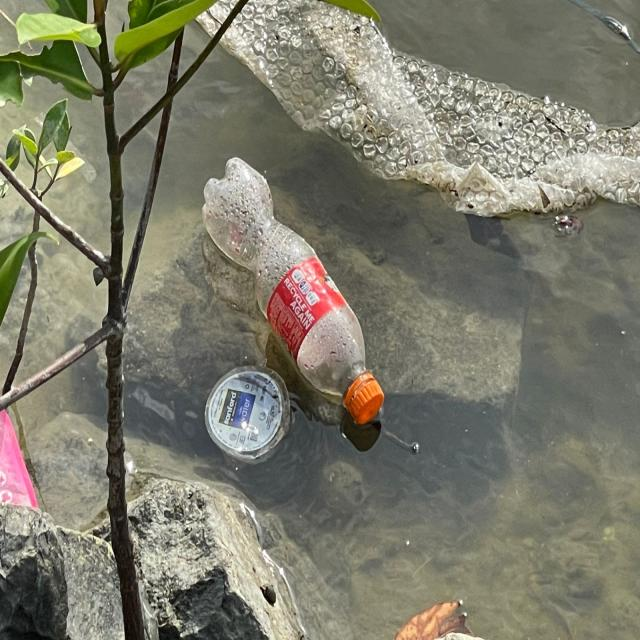Botol Plastik: (197, 144, 394, 430)
Bungkus Minuman: (201, 358, 303, 472)
